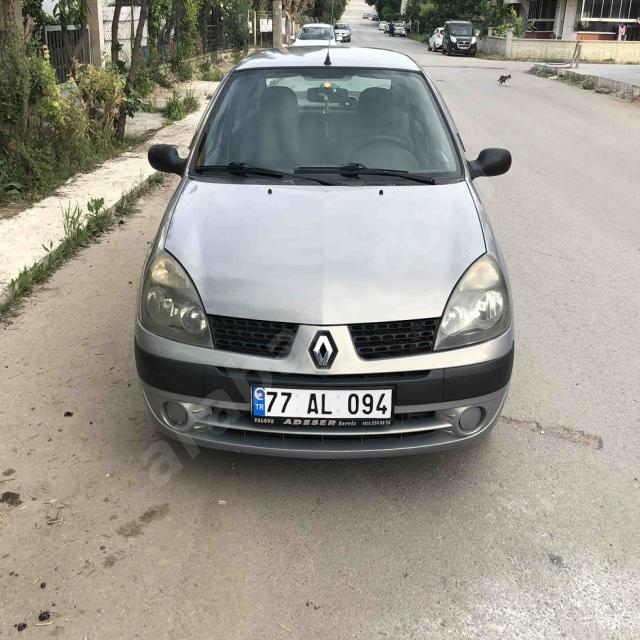license_plate: (251, 386, 393, 419)
